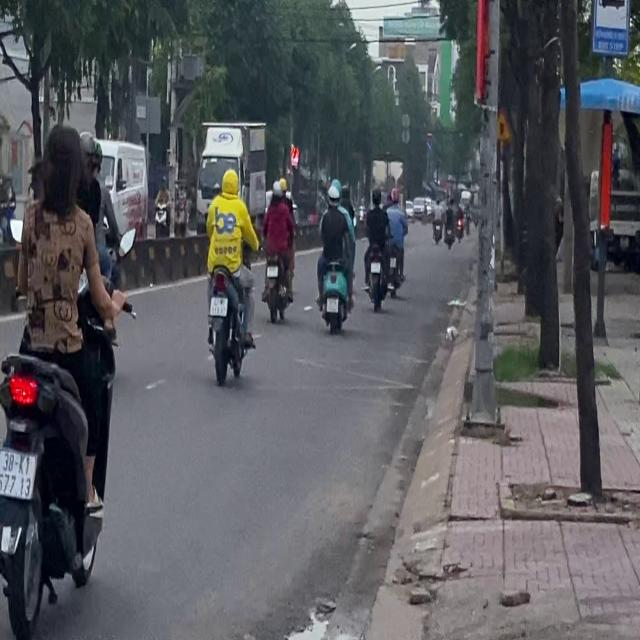helmet: (220, 168, 238, 195)
licenseplate: (0, 117, 126, 635), (202, 166, 257, 383)
motorcyclist: (41, 122, 85, 214)
nohelmet: (0, 449, 35, 497), (210, 296, 227, 315)
